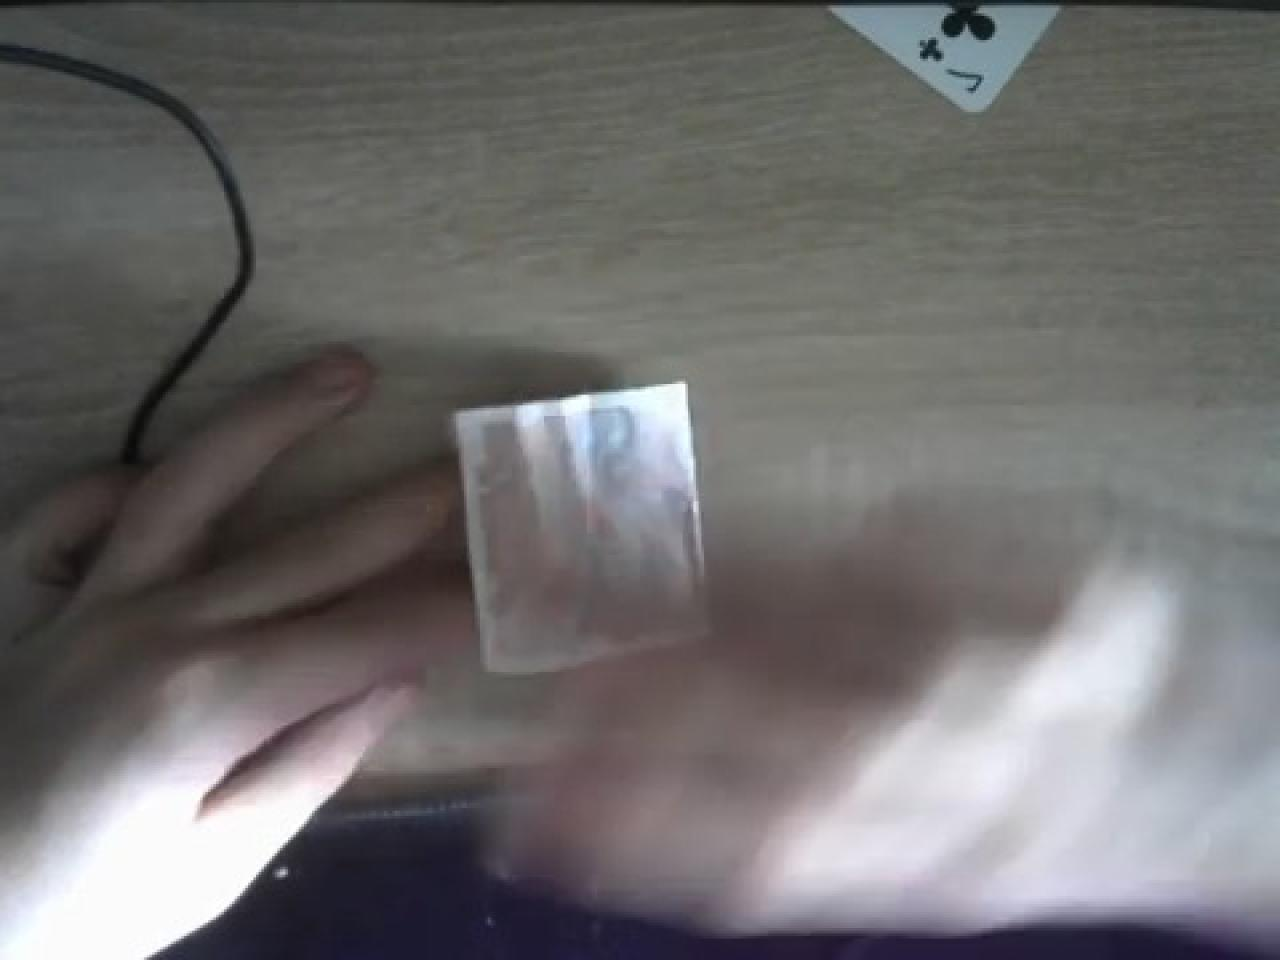5leva: (447, 379, 712, 675)
